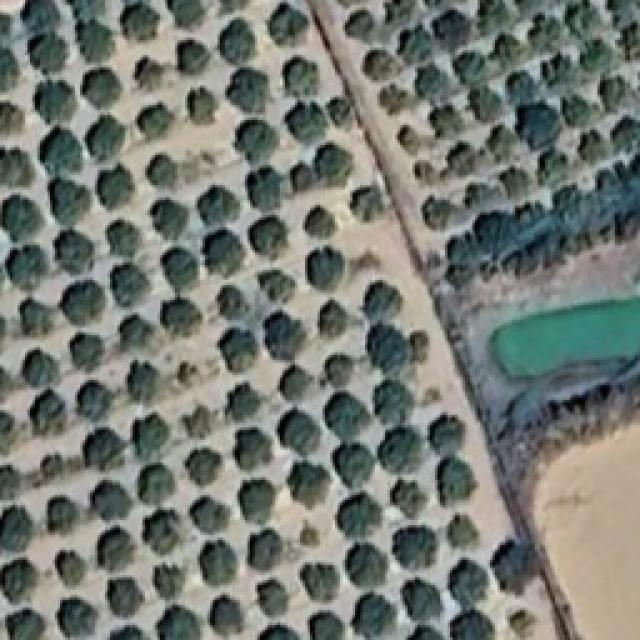Tree: (492, 540, 538, 595), (512, 227, 569, 270), (324, 391, 370, 441), (368, 323, 411, 375), (39, 126, 83, 176), (515, 102, 560, 150), (264, 311, 307, 361), (234, 119, 279, 165), (59, 280, 105, 325), (378, 427, 423, 473), (278, 409, 322, 456), (337, 493, 382, 538), (436, 456, 476, 506), (353, 592, 397, 637), (0, 195, 42, 242), (203, 229, 244, 277), (49, 178, 90, 226), (449, 559, 488, 609), (333, 442, 376, 487), (393, 525, 437, 568), (34, 80, 77, 123), (83, 428, 127, 470), (227, 68, 268, 113), (347, 542, 388, 587), (85, 115, 125, 161), (110, 262, 150, 307), (218, 327, 258, 372), (199, 540, 238, 586), (285, 101, 328, 142), (402, 578, 443, 621), (374, 380, 414, 424), (9, 245, 48, 290), (306, 246, 345, 291), (96, 526, 135, 571), (219, 19, 257, 65), (0, 558, 38, 604), (133, 413, 169, 461), (269, 3, 309, 46), (291, 464, 330, 508), (96, 164, 134, 209), (28, 31, 68, 73), (249, 215, 288, 258), (474, 212, 517, 251), (143, 509, 179, 555), (81, 68, 121, 109), (198, 186, 239, 226), (363, 280, 403, 321), (55, 231, 94, 273), (433, 9, 472, 51), (315, 143, 353, 186), (247, 166, 283, 211), (162, 247, 198, 292), (120, 1, 160, 41), (91, 480, 131, 520), (137, 463, 175, 505), (234, 428, 272, 470), (29, 390, 65, 434), (242, 479, 277, 524), (59, 597, 98, 637), (156, 605, 200, 640), (390, 479, 428, 519), (429, 414, 465, 456), (79, 19, 114, 62), (163, 298, 202, 336), (190, 496, 230, 533), (78, 380, 114, 421), (21, 349, 59, 387), (300, 564, 339, 601), (0, 505, 32, 550), (414, 64, 450, 104), (283, 56, 318, 97), (248, 529, 283, 570), (136, 103, 174, 140), (565, 0, 601, 39), (153, 200, 188, 240), (528, 12, 563, 52), (225, 383, 261, 421), (185, 448, 221, 486), (210, 595, 243, 636), (450, 609, 493, 640), (398, 25, 433, 63), (110, 577, 143, 617), (128, 360, 159, 402), (601, 204, 637, 240), (19, 298, 53, 336), (69, 333, 103, 371), (363, 49, 403, 81), (119, 314, 154, 350), (350, 185, 384, 222), (489, 33, 523, 70), (21, 0, 60, 32), (538, 147, 569, 187), (542, 52, 577, 87), (477, 0, 513, 34), (429, 104, 464, 138), (453, 51, 487, 86), (178, 39, 211, 75), (279, 365, 312, 401), (153, 564, 186, 600), (187, 87, 218, 125), (487, 124, 518, 162), (216, 285, 249, 320), (261, 269, 296, 302), (48, 496, 79, 533), (258, 579, 289, 616), (599, 75, 630, 112), (580, 39, 614, 72), (565, 96, 601, 127), (318, 300, 348, 337), (0, 148, 29, 186), (6, 612, 45, 640), (304, 205, 337, 238), (567, 217, 600, 250), (578, 129, 609, 164), (499, 166, 532, 198), (58, 550, 87, 586), (611, 116, 640, 152), (147, 154, 178, 187), (448, 514, 479, 547), (470, 88, 501, 121), (507, 72, 538, 105), (110, 222, 139, 257), (446, 141, 475, 176), (168, 0, 205, 27), (134, 57, 164, 90), (324, 354, 354, 387), (424, 197, 454, 230), (344, 9, 374, 41), (183, 405, 212, 438), (309, 612, 343, 640), (379, 84, 409, 115), (464, 184, 502, 208), (608, 0, 640, 28), (591, 172, 621, 201), (446, 232, 474, 261), (619, 22, 640, 60), (0, 102, 24, 135), (553, 184, 582, 211), (476, 254, 503, 283), (68, 0, 105, 21), (1, 48, 19, 91), (329, 98, 353, 130), (515, 202, 545, 227), (290, 161, 314, 192), (384, 0, 416, 23), (509, 609, 535, 637), (446, 263, 472, 290), (0, 465, 20, 500), (398, 125, 421, 155), (259, 624, 300, 640), (40, 453, 64, 480), (0, 411, 15, 453), (623, 166, 640, 202), (410, 331, 429, 362), (109, 625, 145, 640), (408, 625, 444, 640), (576, 199, 606, 217), (177, 361, 198, 386), (541, 210, 568, 229), (1, 366, 14, 401), (300, 521, 318, 546), (502, 253, 521, 275), (415, 162, 433, 185), (220, 0, 248, 14), (0, 12, 12, 36)
